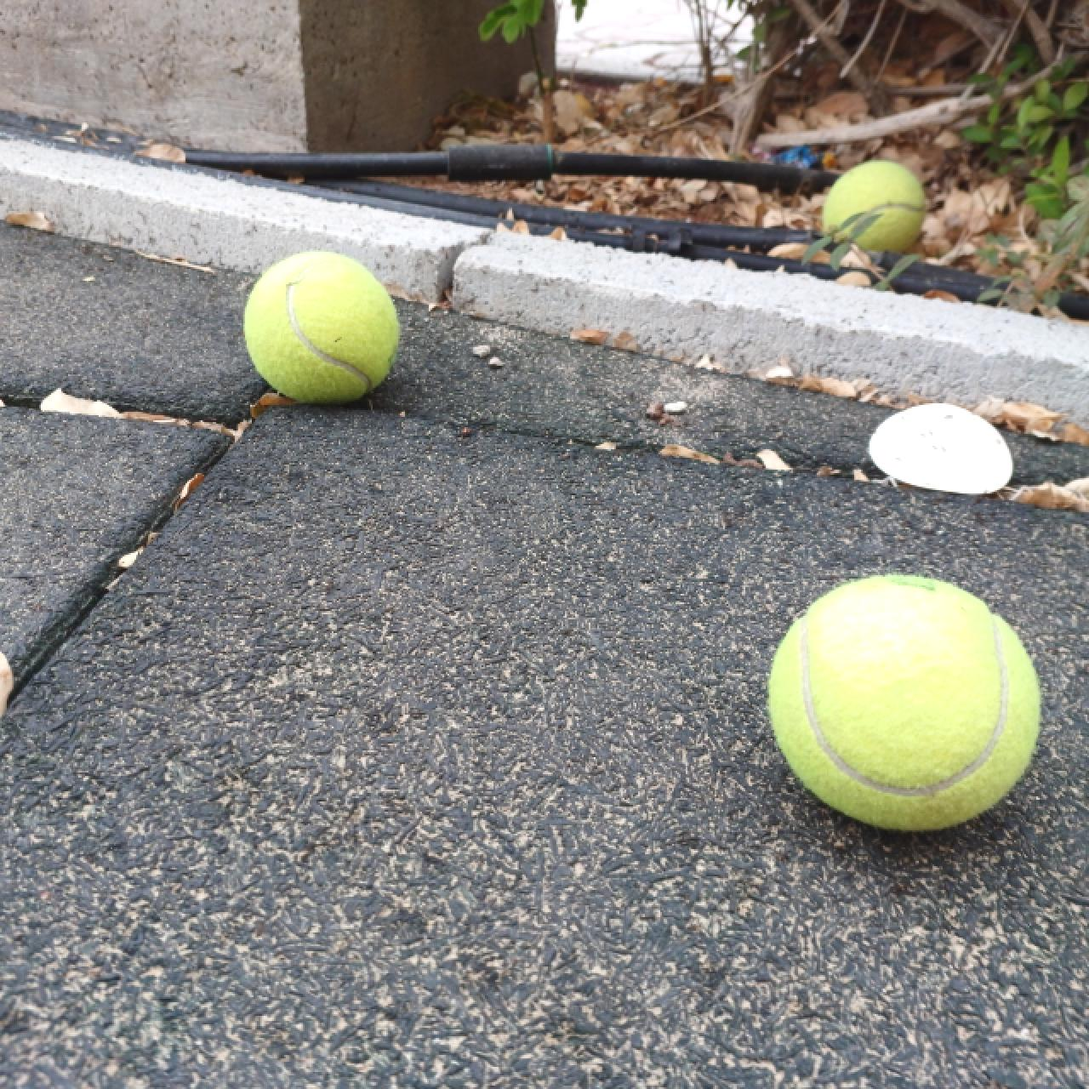tennis-ball: (769, 569, 1043, 834), (243, 247, 402, 403)
